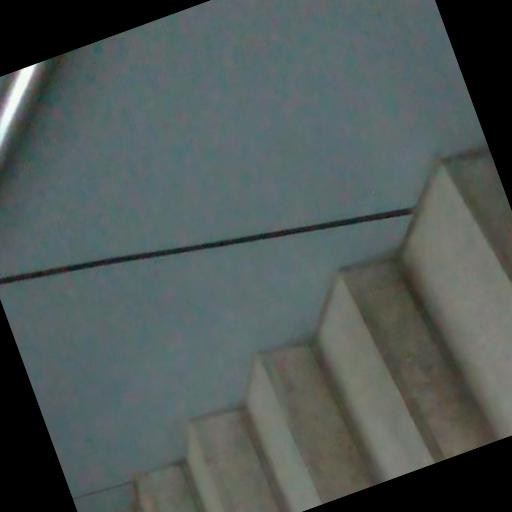stairs: (137, 153, 511, 511)
